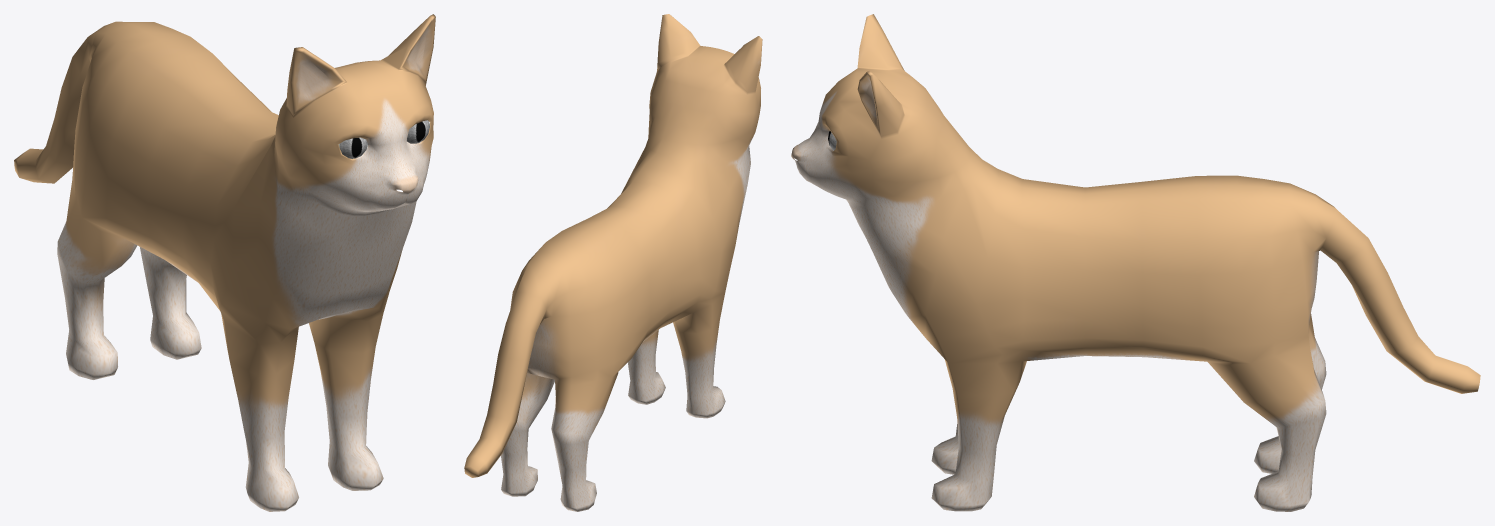
The model's file is cat_BWcream.glb.
3 views of the same model, side by side, from view 1: azimuth 30°, elevation 25°; view 2: azimuth 150°, elevation 25°; view 3: azimuth 270°, elevation 25° (orthographic). The views are drawn at different scales.
Visible parts, largest first — view 1: body cat_geo.001, cat_geo eyes.001; view 2: body cat_geo.001; view 3: body cat_geo.001.
Boxes of the visible parts, left/top/right/bottom form: body cat_geo.001: left=14, top=14, right=435, bottom=511; cat_geo eyes.001: left=338, top=120, right=429, bottom=158; body cat_geo.001: left=464, top=14, right=762, bottom=511; body cat_geo.001: left=791, top=14, right=1480, bottom=511.
Bounding box in the file's own units: 1572 × 5053 × 7130.
2 materials, 2 textured.
